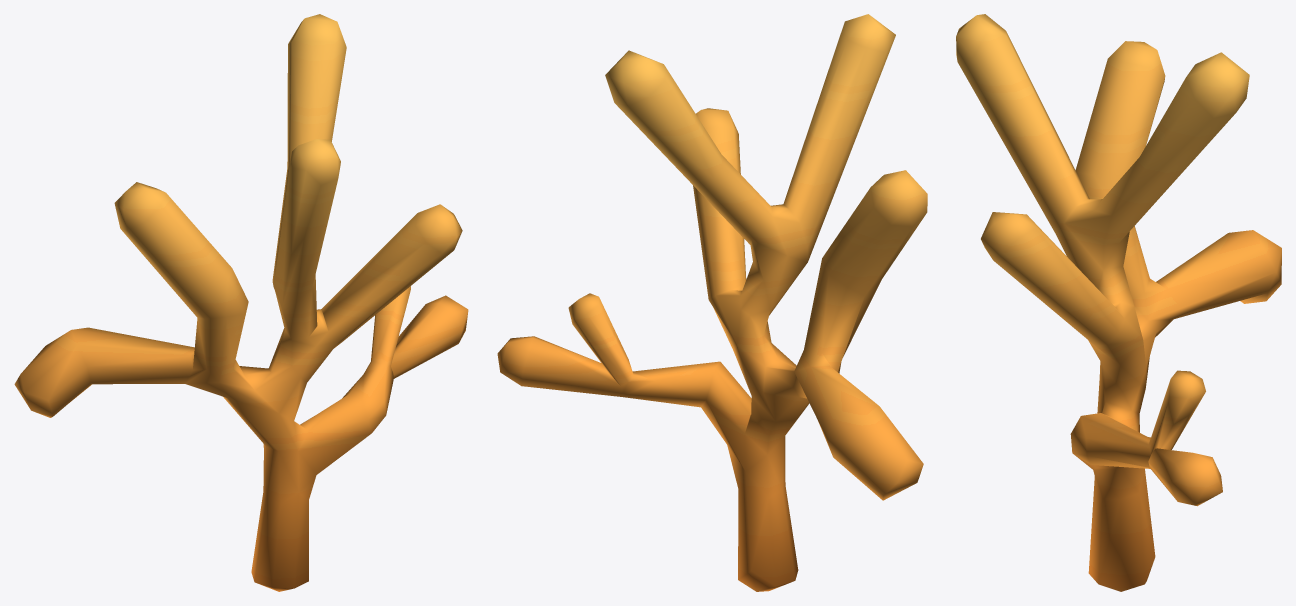
Rendered from D_CoralReef.110.glb.
3 renders of one model, left to right at view 1: azimuth 30°, elevation 25°; view 2: azimuth 150°, elevation 25°; view 3: azimuth 270°, elevation 25°, orthographic. The views are drawn at different scales.
Parts seen in each view (by area): view 1: D_CoralReef.110; view 2: D_CoralReef.110; view 3: D_CoralReef.110.
Part boxes in pixels (<box>): D_CoralReef.110: <box>14,14,468,591</box>; D_CoralReef.110: <box>497,14,927,591</box>; D_CoralReef.110: <box>956,14,1281,591</box>.
Bounding box in the file's own units: 0.5952 × 0.7064 × 0.3629.
1 material, 1 textured.
